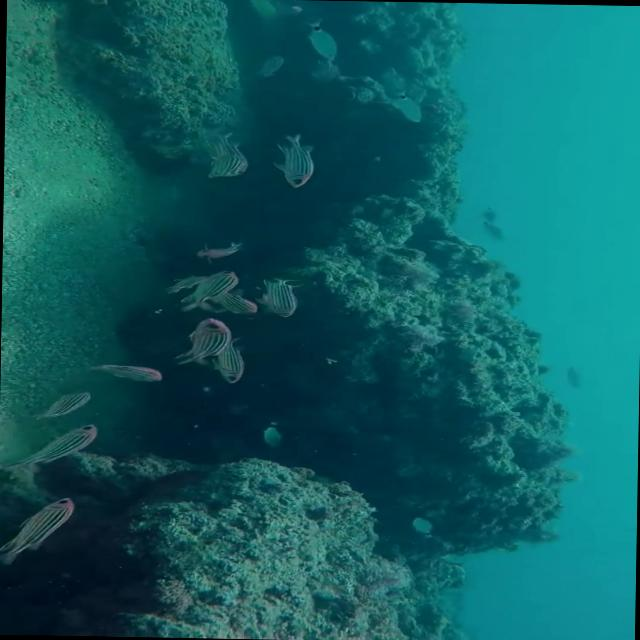Asker Baligi: (1, 418, 118, 472), (0, 491, 75, 557), (264, 133, 322, 185), (187, 318, 230, 367)
